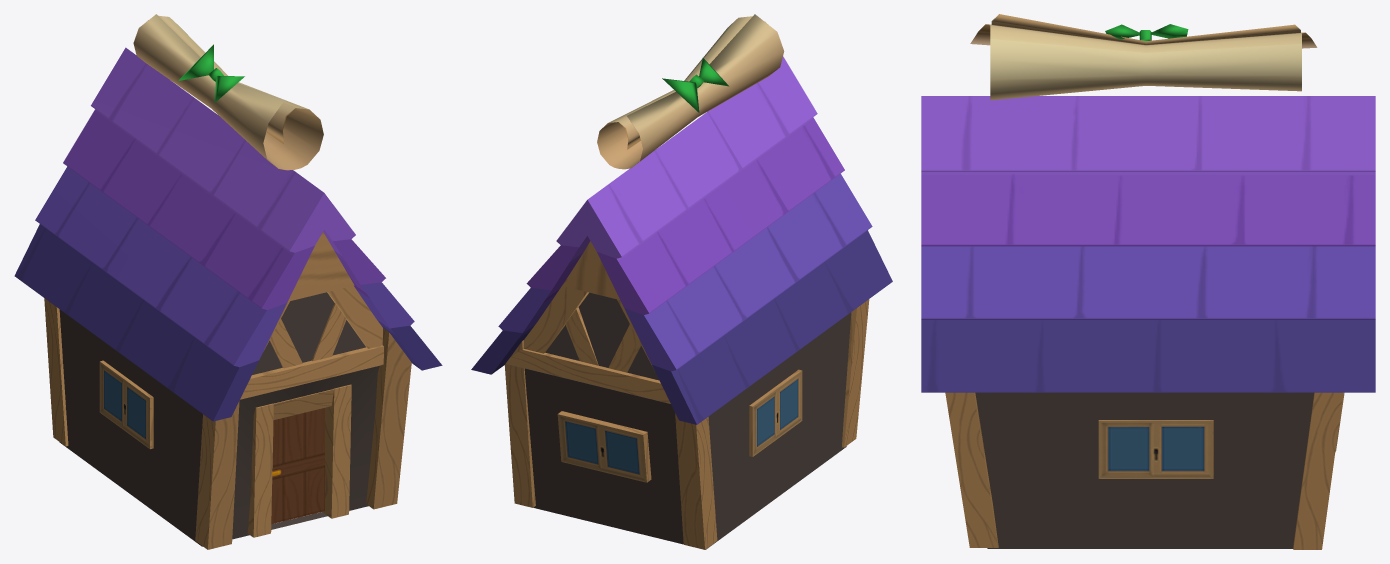
The model's file is building_spell_lv1.FBX.
3 renders of one model, left to right at view 1: azimuth 30°, elevation 25°; view 2: azimuth 150°, elevation 25°; view 3: azimuth 270°, elevation 25°, orthographic. The views are drawn at different scales.
Visible parts, largest first — view 1: building_spell_roof_lv1, building_spell_lv1, building_spell_main_lv1, building_spell_etc01_lv1; view 2: building_spell_roof_lv1, building_spell_main_lv1, building_spell_lv1, building_spell_etc01_lv1; view 3: building_spell_roof_lv1, building_spell_main_lv1, building_spell_etc01_lv1, building_spell_lv1.
Part boxes in pixels (bbox=[...]): building_spell_roof_lv1: bbox=[14, 47, 442, 421]; building_spell_lv1: bbox=[44, 232, 411, 549]; building_spell_main_lv1: bbox=[59, 292, 379, 546]; building_spell_etc01_lv1: bbox=[133, 14, 323, 170]; building_spell_roof_lv1: bbox=[471, 56, 892, 424]; building_spell_main_lv1: bbox=[524, 292, 851, 549]; building_spell_lv1: bbox=[504, 241, 869, 549]; building_spell_etc01_lv1: bbox=[597, 14, 784, 169]; building_spell_roof_lv1: bbox=[921, 96, 1375, 392]; building_spell_main_lv1: bbox=[975, 392, 1314, 548]; building_spell_etc01_lv1: bbox=[970, 14, 1317, 100]; building_spell_lv1: bbox=[945, 392, 1344, 549].
Size of the model in its own units: 211 by 371 by 317.
